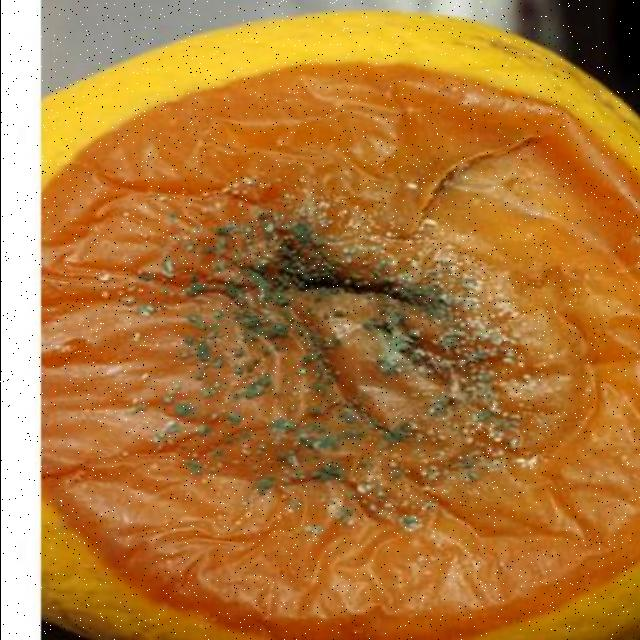ROT: (52, 9, 620, 636)
